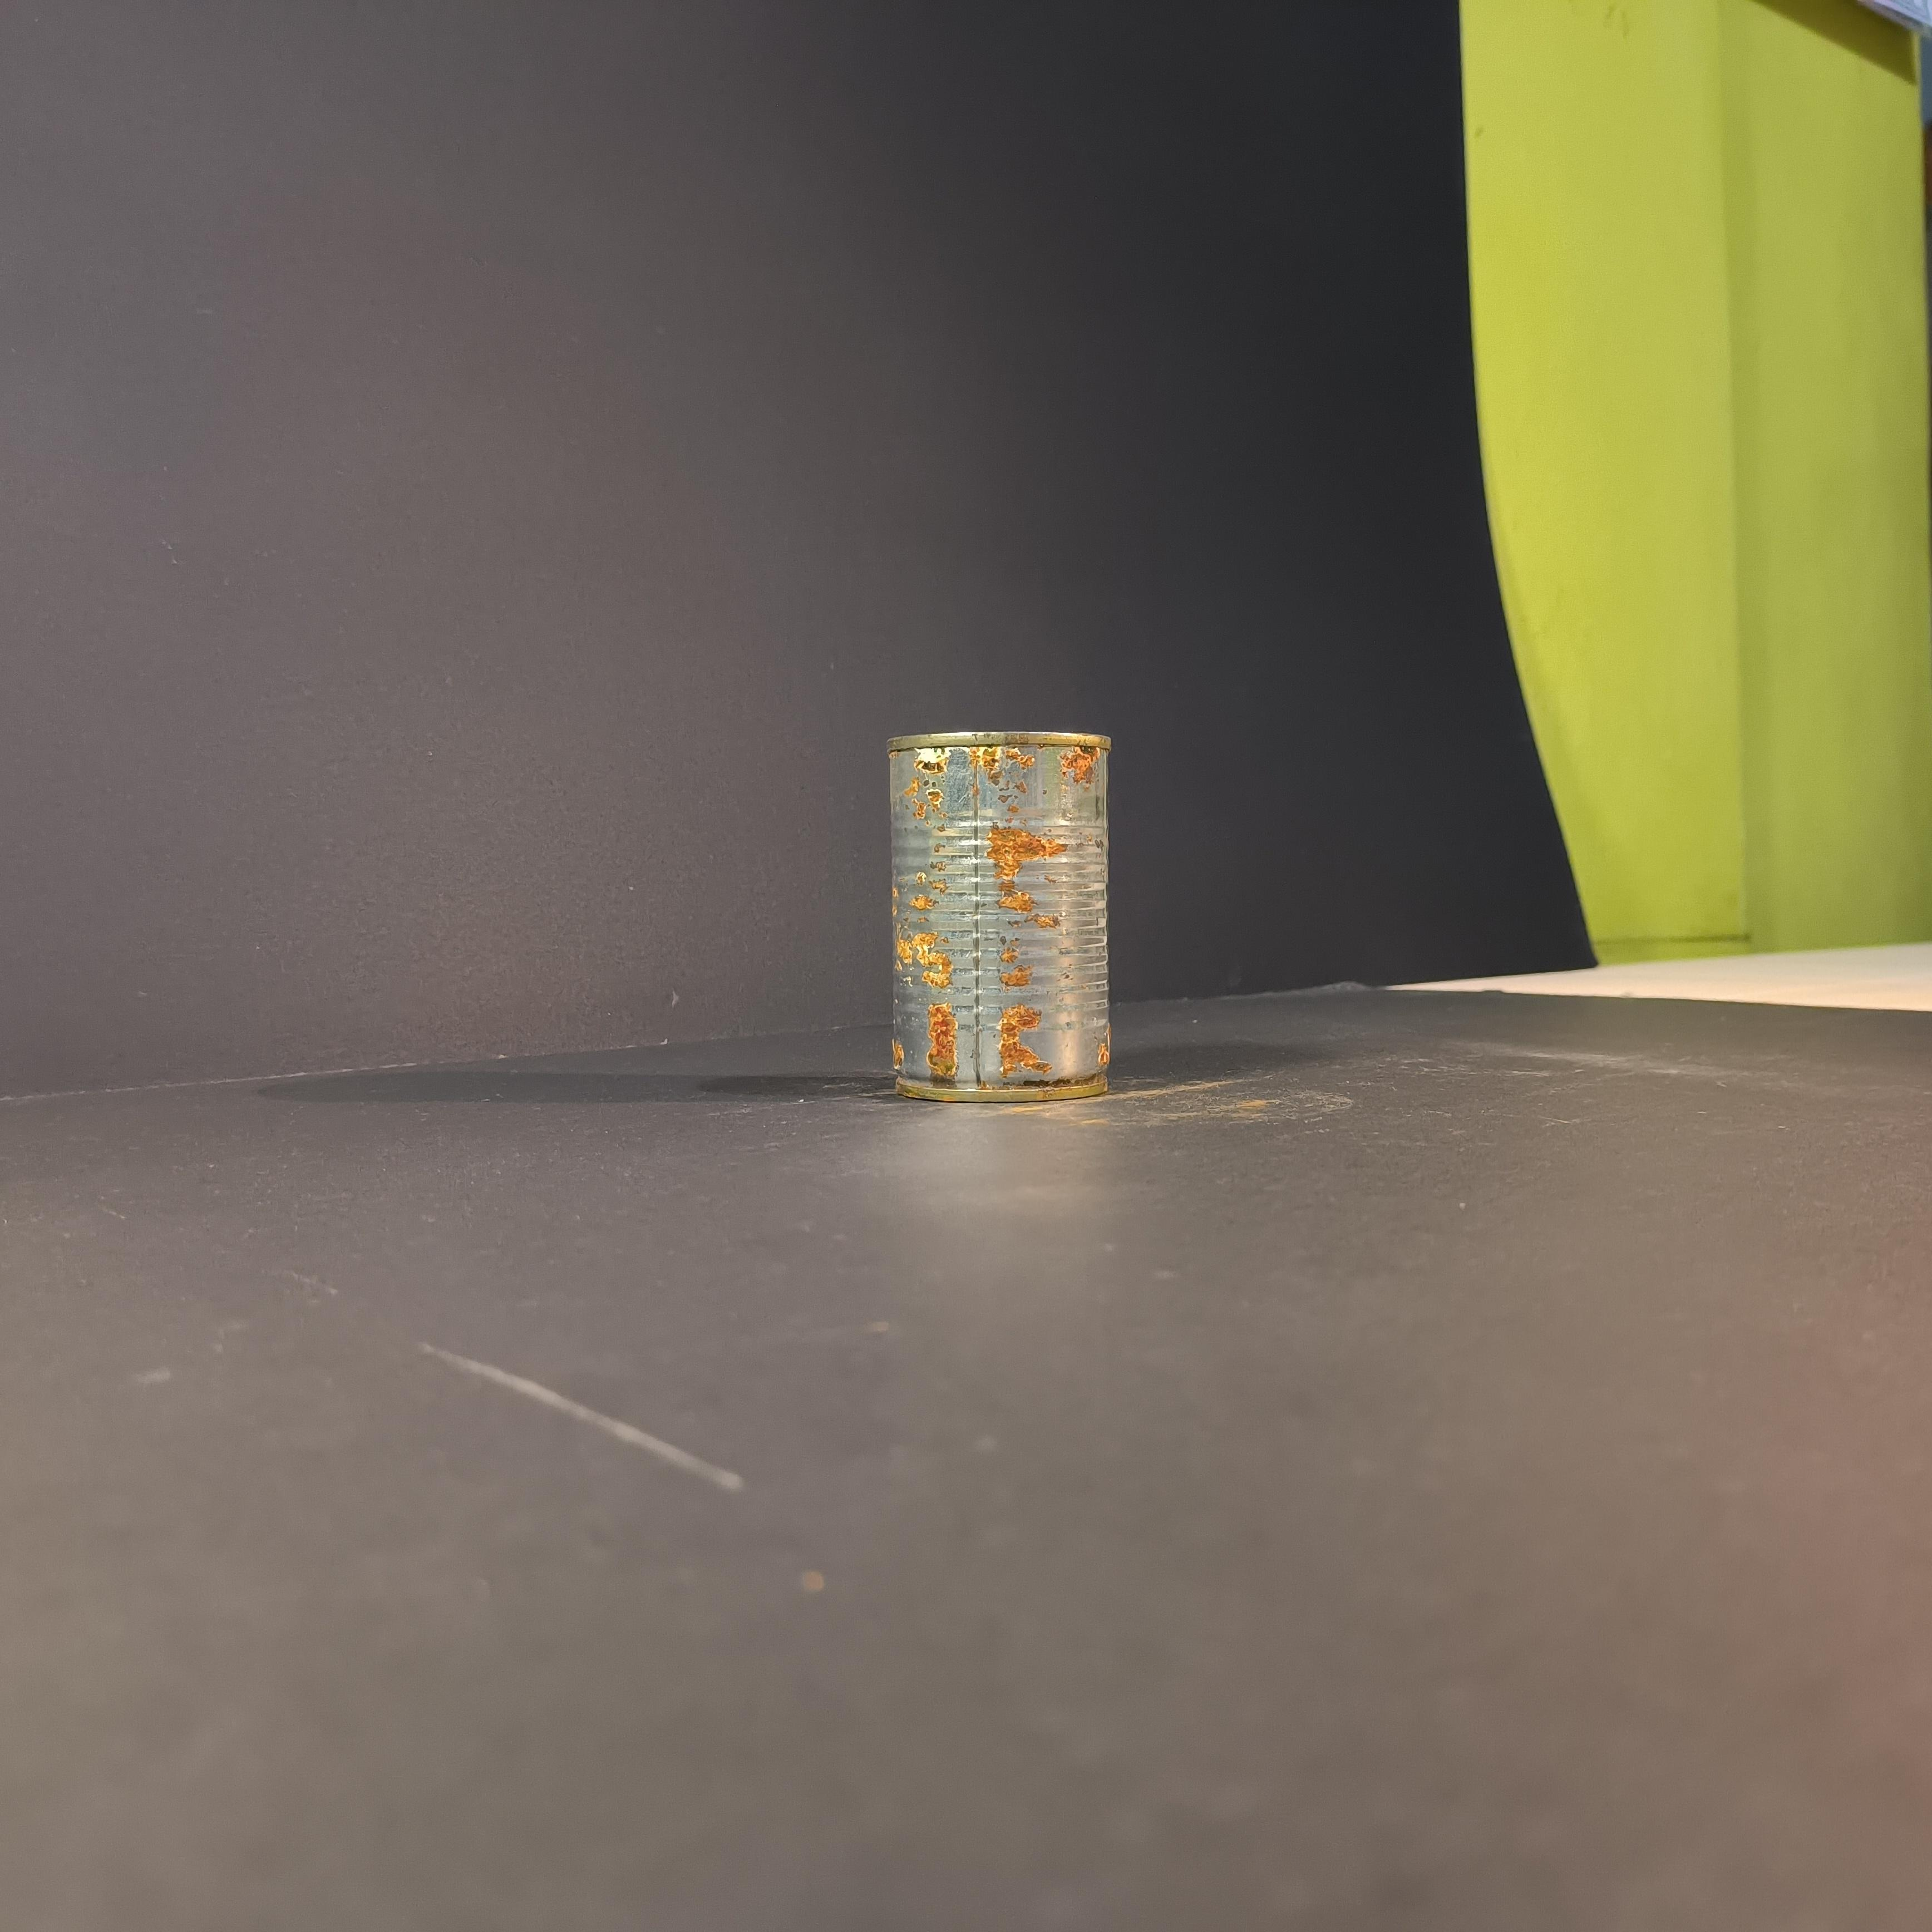Rusted: (863, 715, 1132, 1129)
